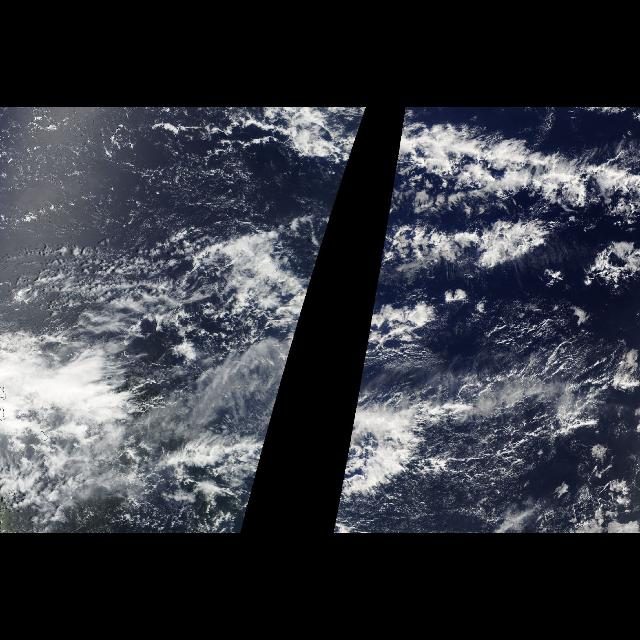Fish: (370, 108, 640, 298), (175, 108, 368, 298)
